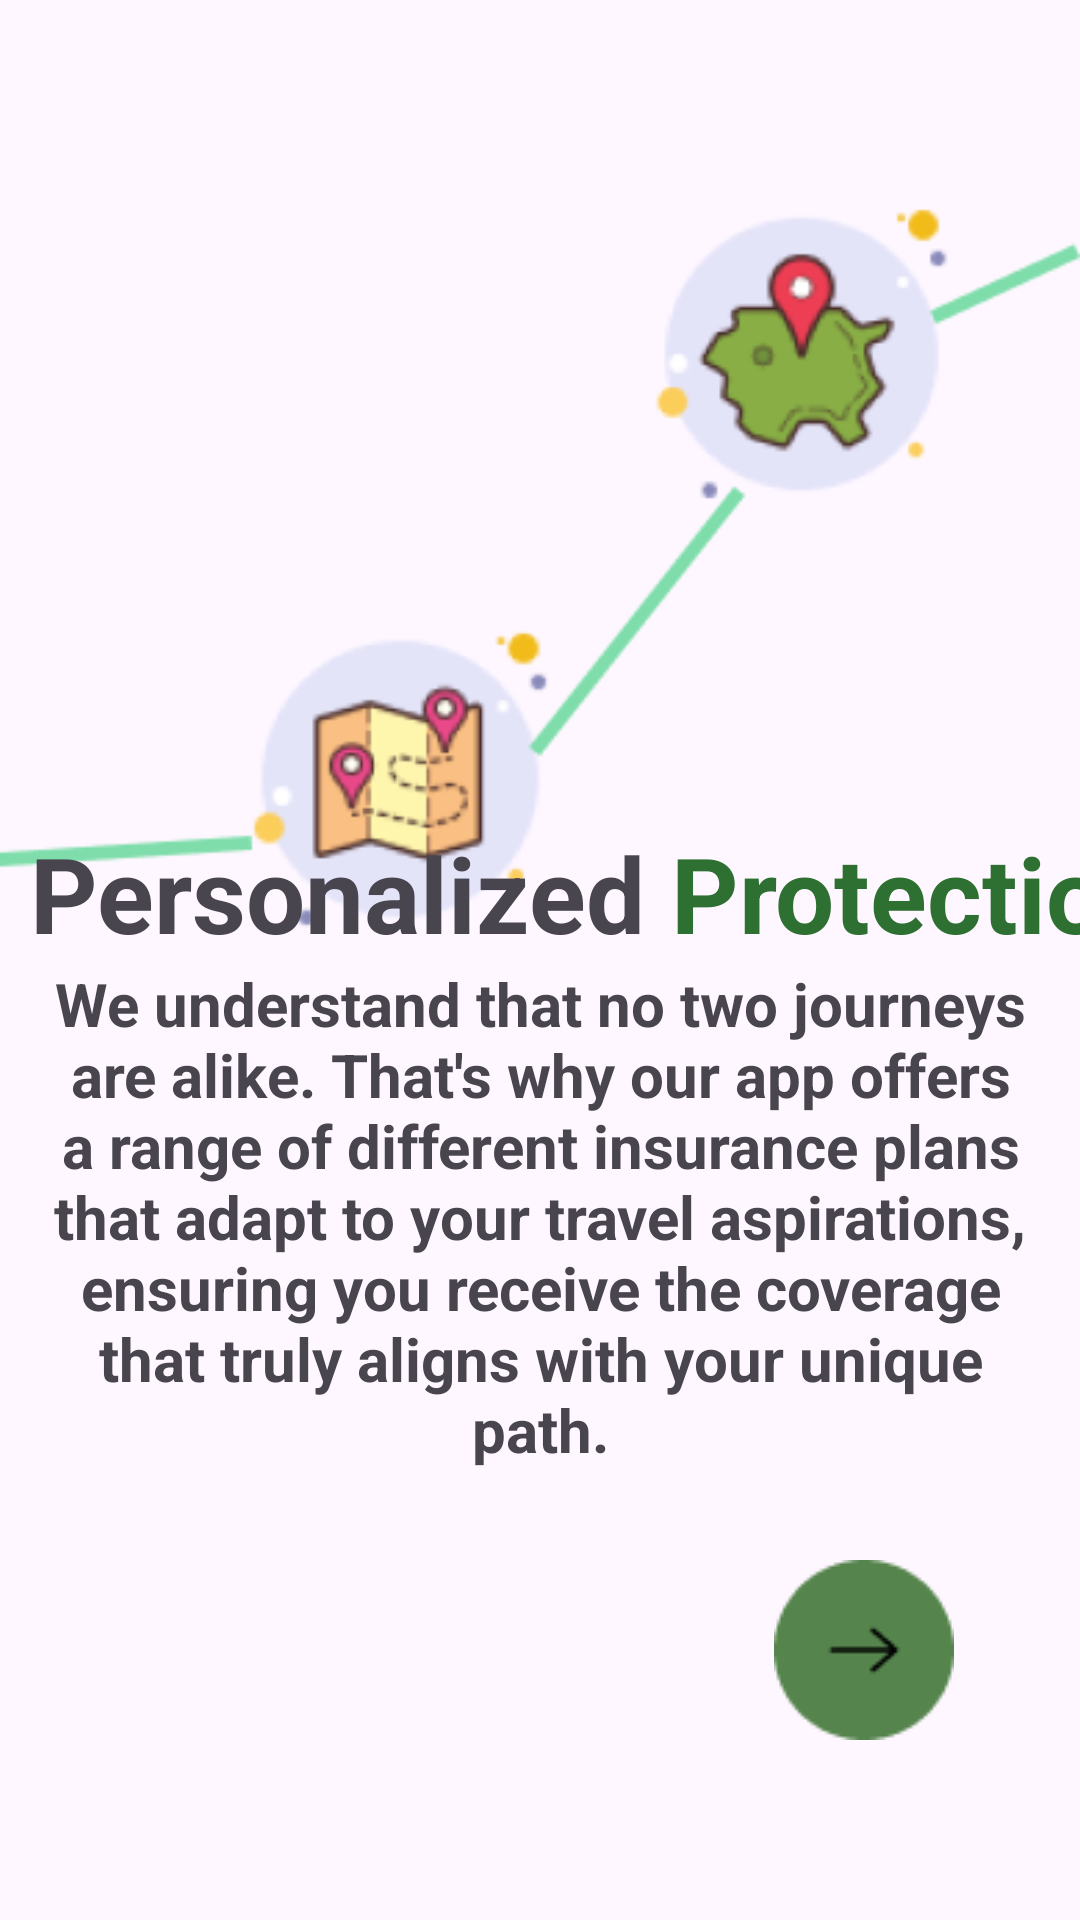

Icon bounding boxes for this 1080 x 1920 phone screenshot, format (x1, y1, x2, y2):
arrow: (774, 1560, 954, 1740)
